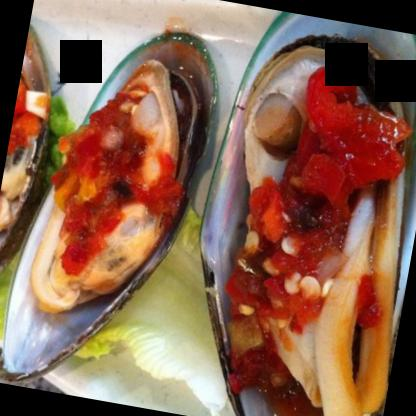mussel: (171, 4, 415, 415), (0, 10, 217, 402), (0, 26, 59, 294)
